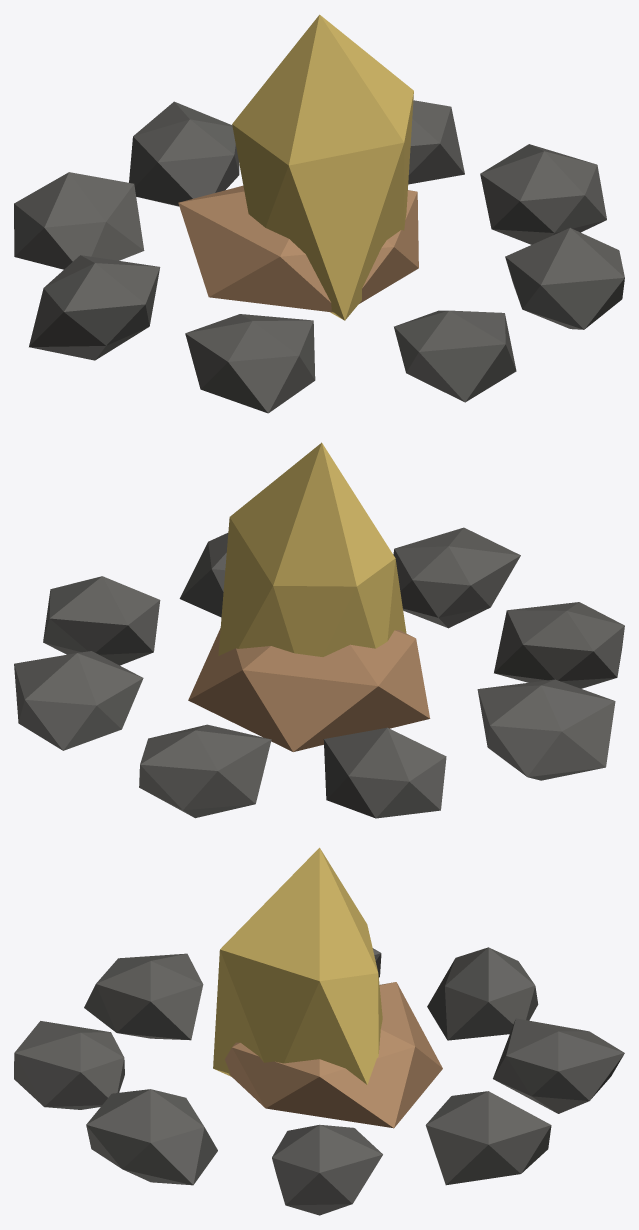
File: hearth.glb
3 views of the same model, one above another, from view 1: azimuth 30°, elevation 25°; view 2: azimuth 150°, elevation 25°; view 3: azimuth 270°, elevation 25° (orthographic). The views are drawn at different scales.
Parts seen in each view (by area): view 1: hearth; view 2: hearth; view 3: hearth.
Boxes of the visible parts, left/top/right/bottom form: hearth: left=14, top=14, right=624, bottom=413; hearth: left=14, top=442, right=624, bottom=818; hearth: left=14, top=847, right=624, bottom=1215.
Bounding box in the file's own units: 2.78 × 1.37 × 2.81.
Materials: 1 (1 with a texture image).
